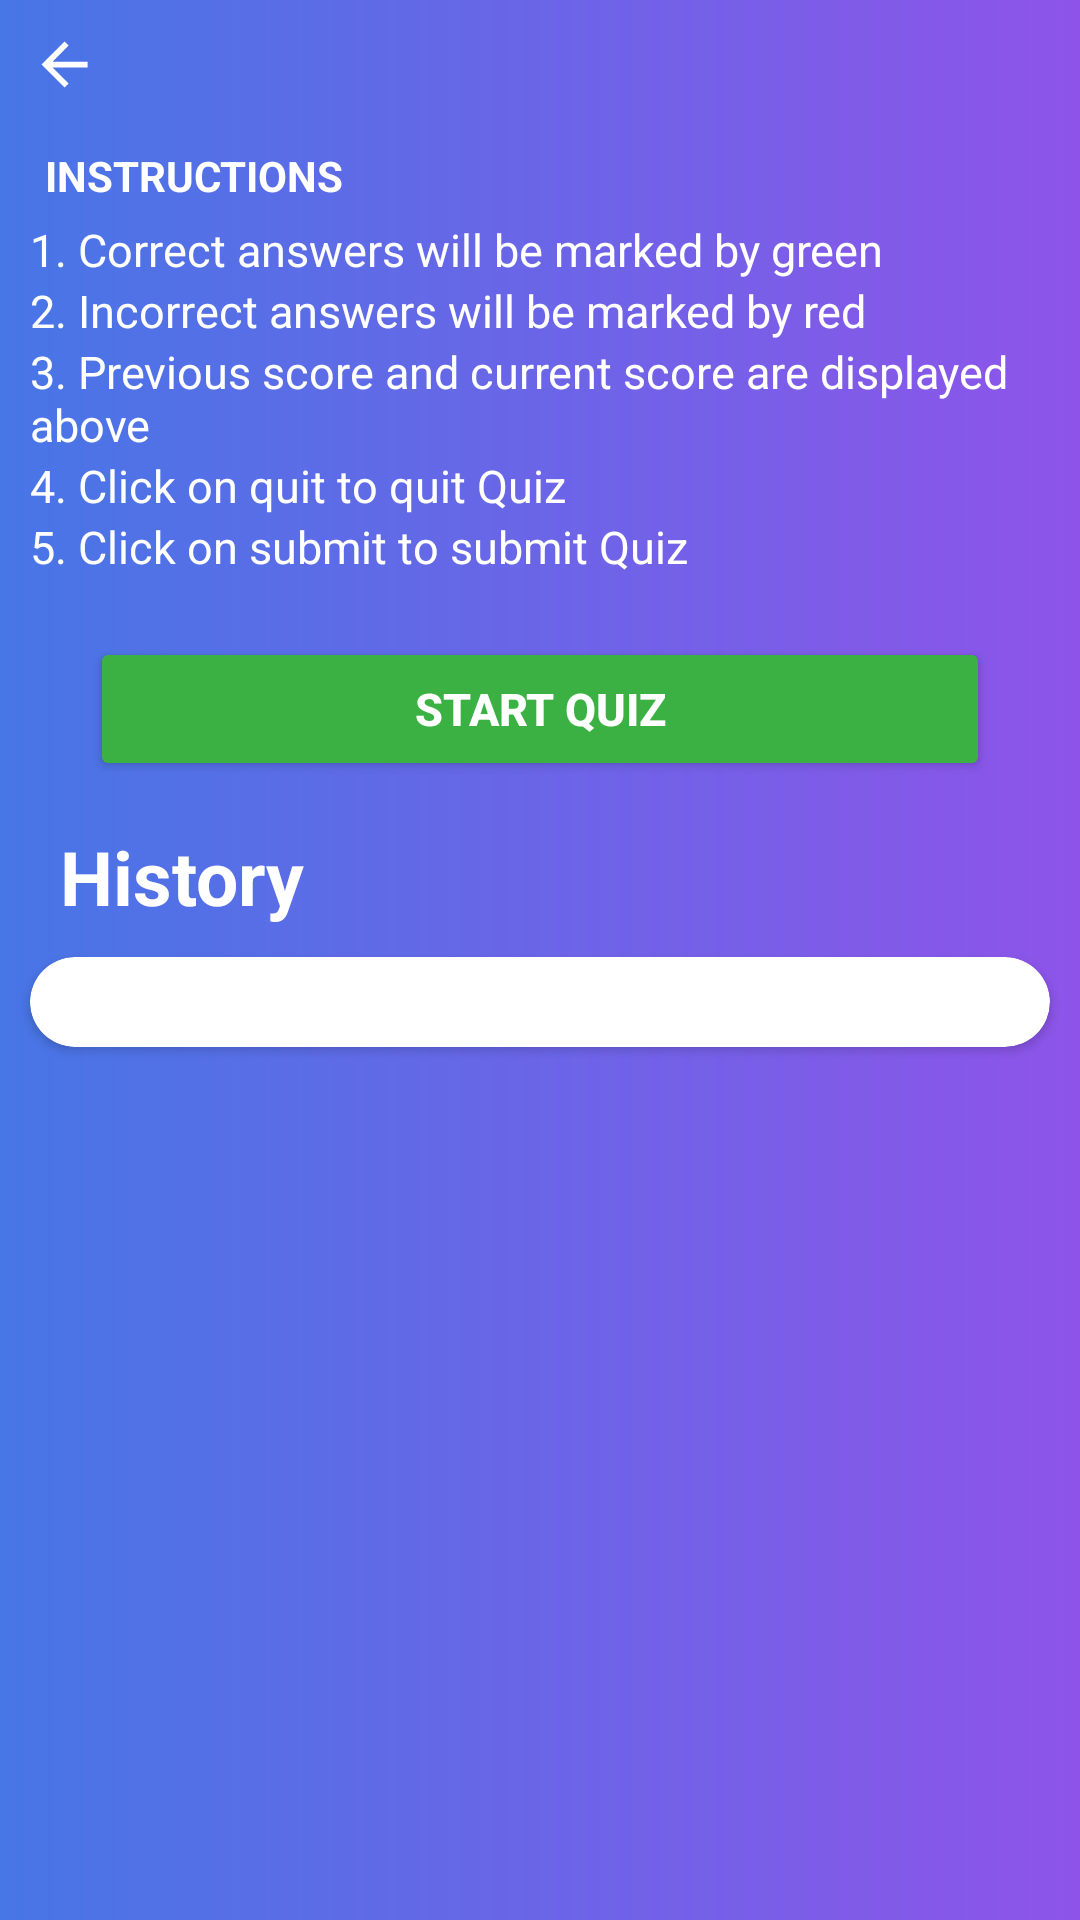

Icons on this 1080×1920 Android screen, each with its box as (x1, y1, x2, y2):
arrow: (41, 41, 88, 88)
